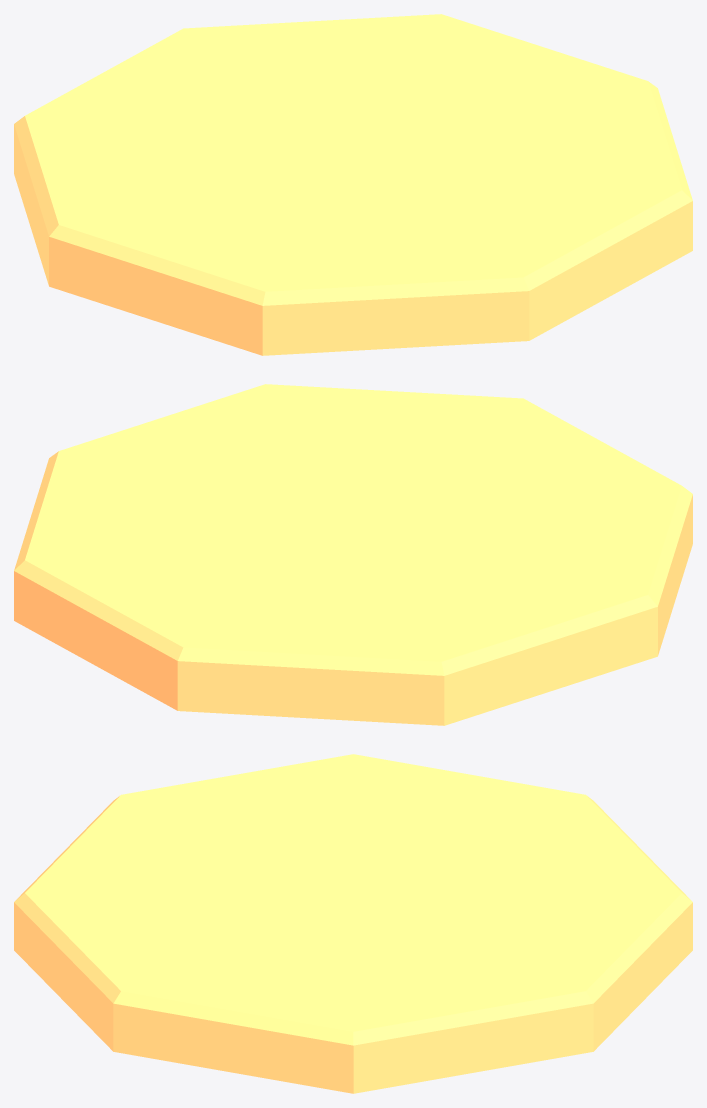
The model's file is Obstacle5.fbx.
3 views of the same model, one above another, from view 1: azimuth 30°, elevation 25°; view 2: azimuth 150°, elevation 25°; view 3: azimuth 270°, elevation 25° (orthographic). The views are drawn at different scales.
Visible parts, largest first — view 1: Obstacle5; view 2: Obstacle5; view 3: Obstacle5.
Boxes of the visible parts, left/top/right/bottom form: Obstacle5: left=14, top=14, right=692, bottom=355; Obstacle5: left=14, top=384, right=692, bottom=725; Obstacle5: left=14, top=754, right=692, bottom=1093.
Bounding box in the file's own units: 13.91 × 1.3 × 13.91.
